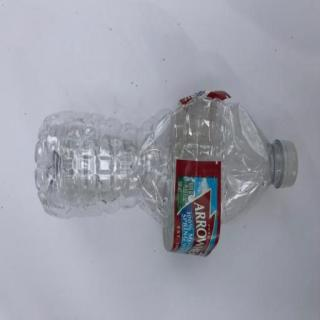Plastic-bottle: (33, 88, 302, 260)
